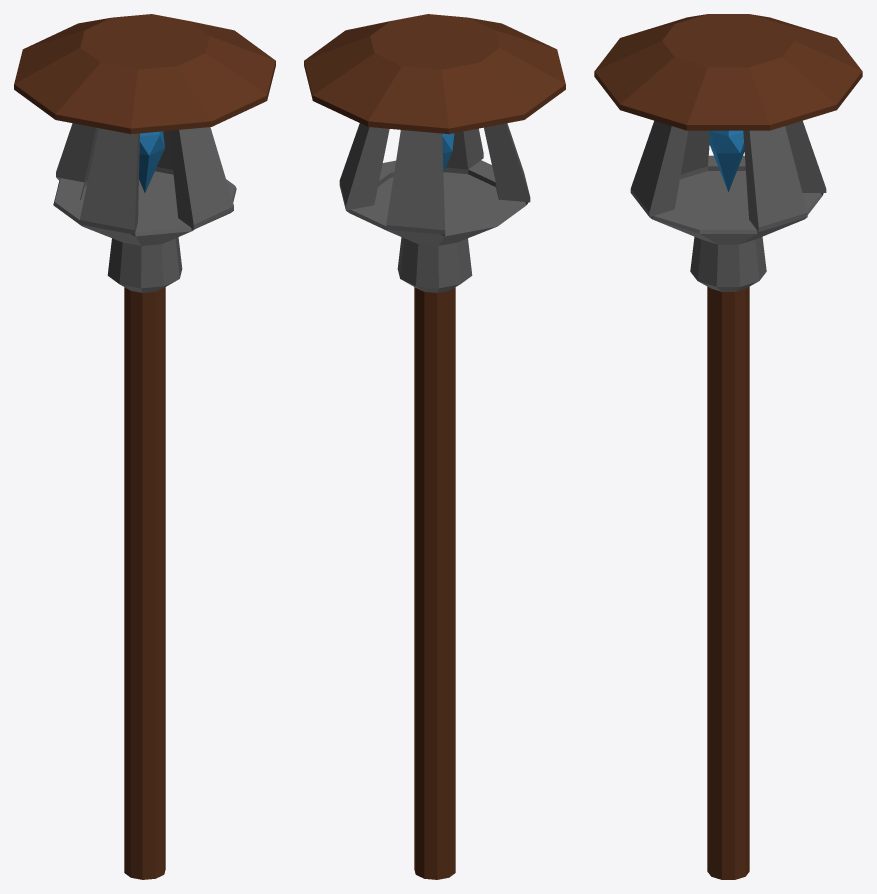
File: Lampe.fbx
The picture shows the model from 3 angles, left to right: view 1: azimuth 30°, elevation 25°; view 2: azimuth 150°, elevation 25°; view 3: azimuth 270°, elevation 25°; orthographic projection.
Parts seen in each view (by area): view 1: Cylinder, Cylinder.001; view 2: Cylinder, Cylinder.001; view 3: Cylinder, Cylinder.001.
Part boxes in pixels (<box>): Cylinder: <box>53,123,236,879</box>; Cylinder.001: <box>14,14,275,134</box>; Cylinder: <box>339,123,530,879</box>; Cylinder.001: <box>304,14,565,134</box>; Cylinder: <box>630,121,826,879</box>; Cylinder.001: <box>594,14,862,130</box>.
Bounding box in the file's own units: 132 × 475 × 139.
